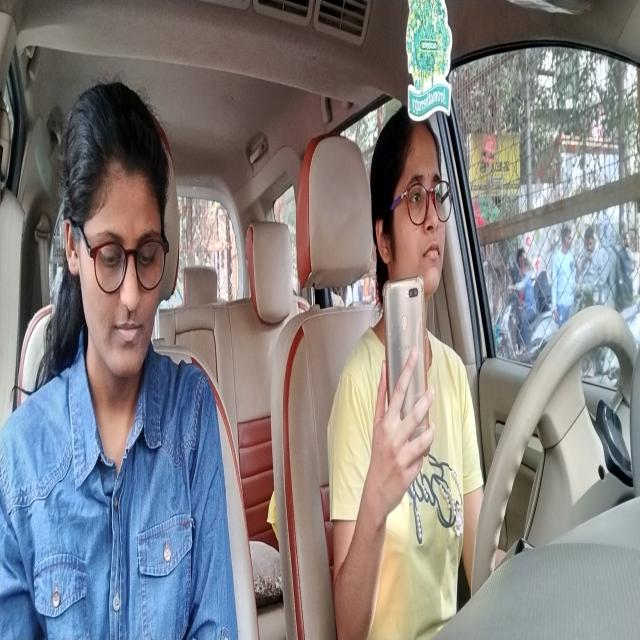person: (76, 115, 165, 376), (375, 127, 448, 290), (384, 274, 434, 427)
